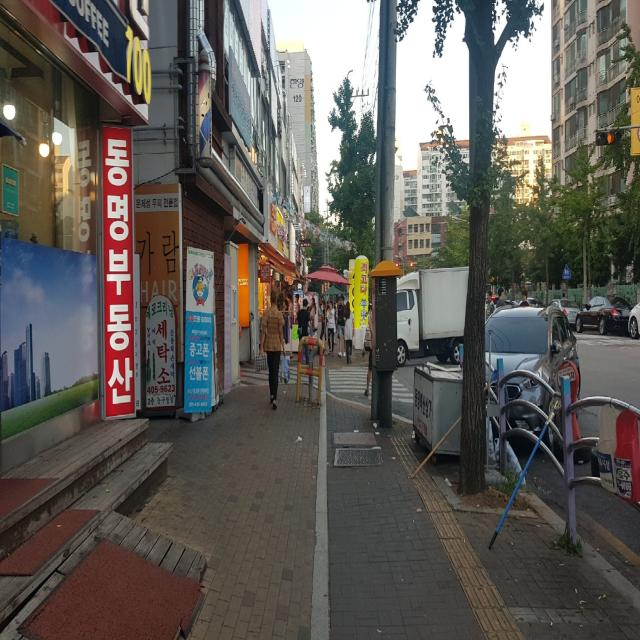횡단보도: (328, 365, 414, 404)
